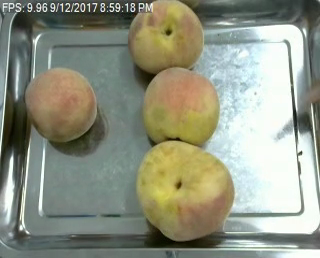Peach: (135, 141, 234, 242), (142, 67, 218, 144), (23, 67, 97, 143), (128, 0, 206, 72)
